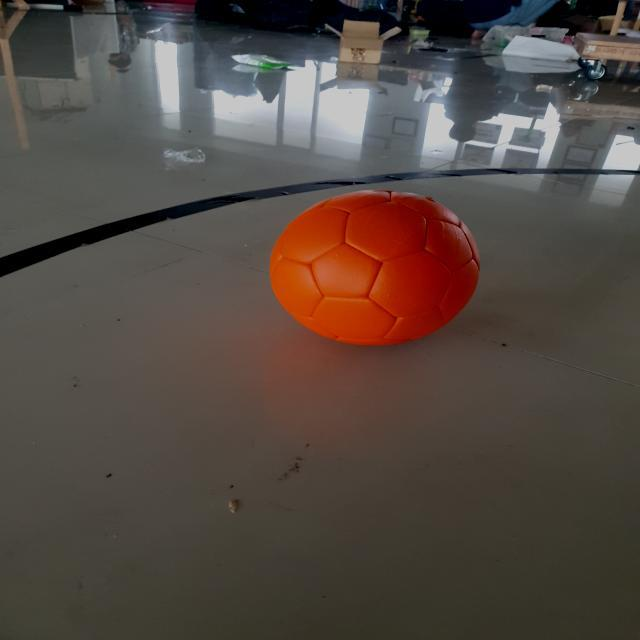bola: (271, 188, 484, 354)
